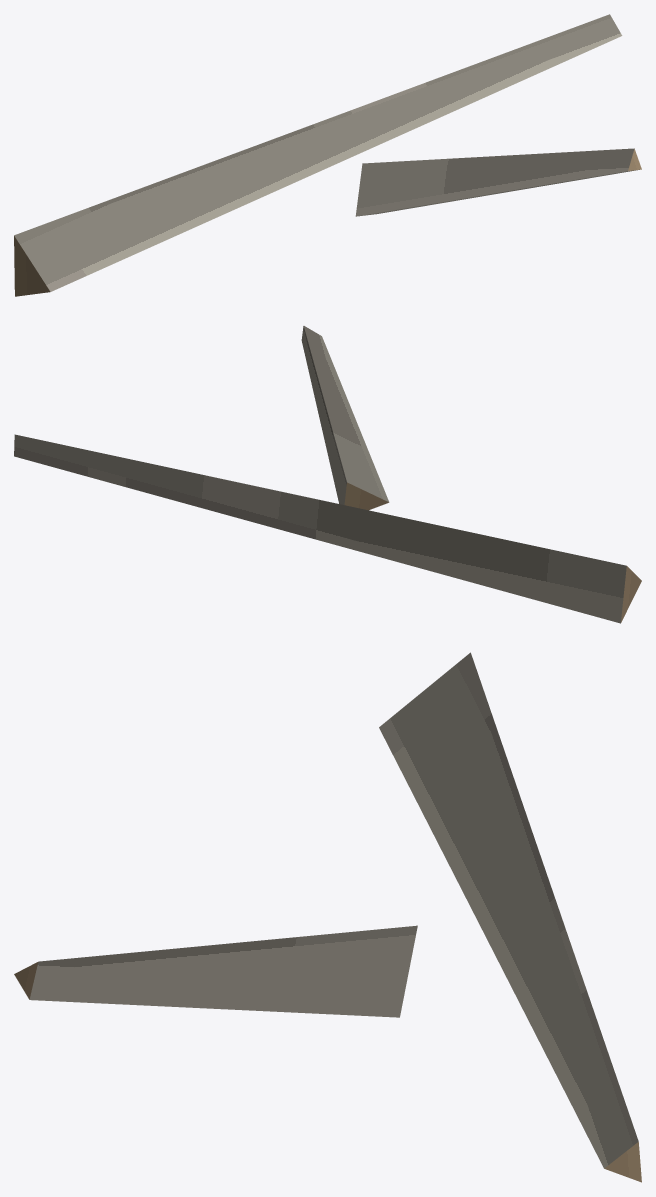
Rendered from scatter-branch-far.glb.
3 renders of one model, top to bottom at view 1: azimuth 30°, elevation 25°; view 2: azimuth 150°, elevation 25°; view 3: azimuth 270°, elevation 25°, orthographic. The views are drawn at different scales.
Visible parts, largest first — view 1: scatter-branch.001; view 2: scatter-branch.001; view 3: scatter-branch.001.
Part boxes in pixels (x1,y1,x2,y2): scatter-branch.001: (14,14,641,296); scatter-branch.001: (14,326,641,623); scatter-branch.001: (14,652,641,1182).
Size of the model in its own units: 1.22 by 0.2231 by 0.602.
2 materials, 2 textured.
